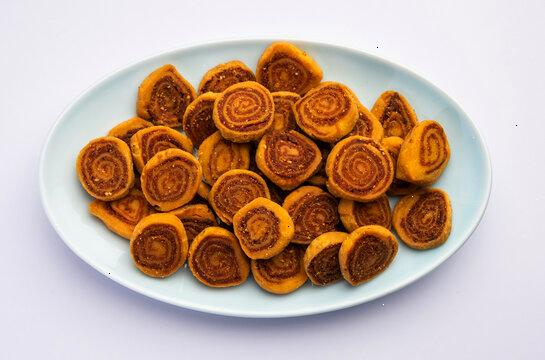bhakarwadi: (75, 52, 454, 293)
